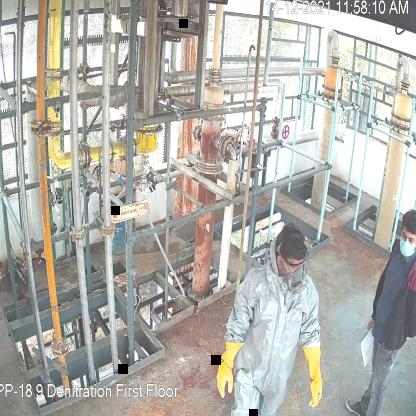mask: (286, 266, 310, 296)
no_goggles: (400, 228, 416, 245)
